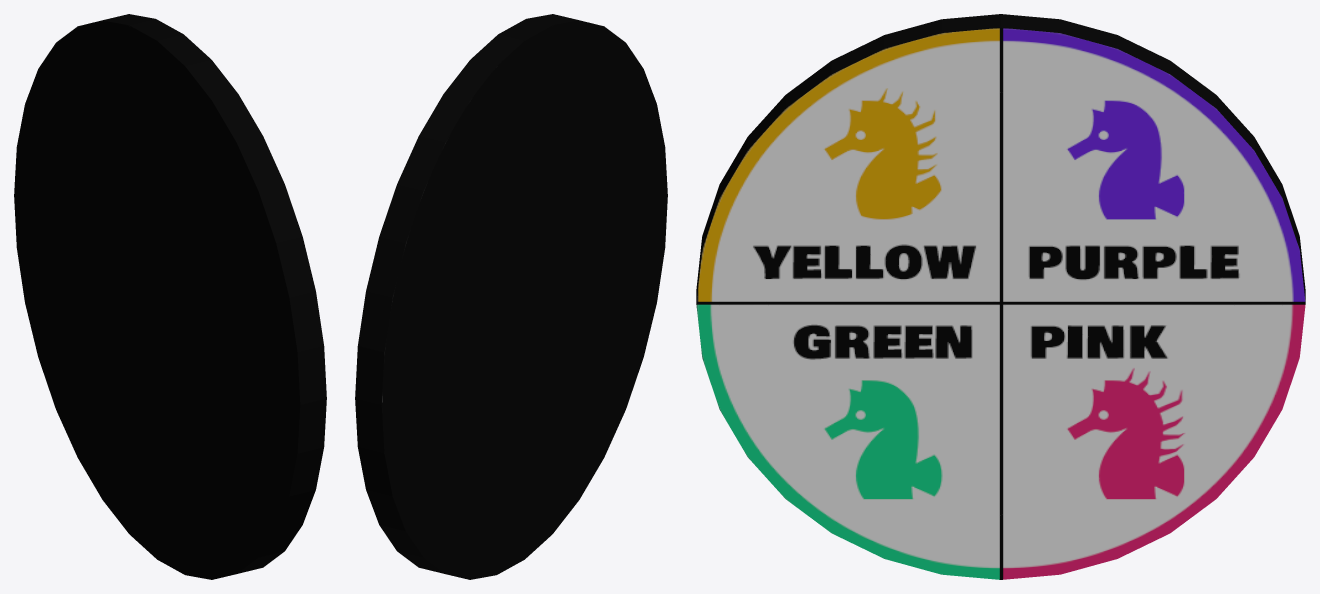
Rendered from Roulette.glb.
3 renders of one model, left to right at view 1: azimuth 30°, elevation 25°; view 2: azimuth 150°, elevation 25°; view 3: azimuth 270°, elevation 25°, orthographic. The views are drawn at different scales.
Visible parts, largest first — view 1: Cylinder; view 2: Cylinder; view 3: Cylinder.
Part boxes in pixels (x1,y1,x2,y2): Cylinder: (14, 14, 326, 579); Cylinder: (355, 14, 667, 579); Cylinder: (696, 14, 1305, 579).
Bounding box in the file's own units: 0.6225 × 11.6 × 11.6.
Materials: 1 (1 with a texture image).
